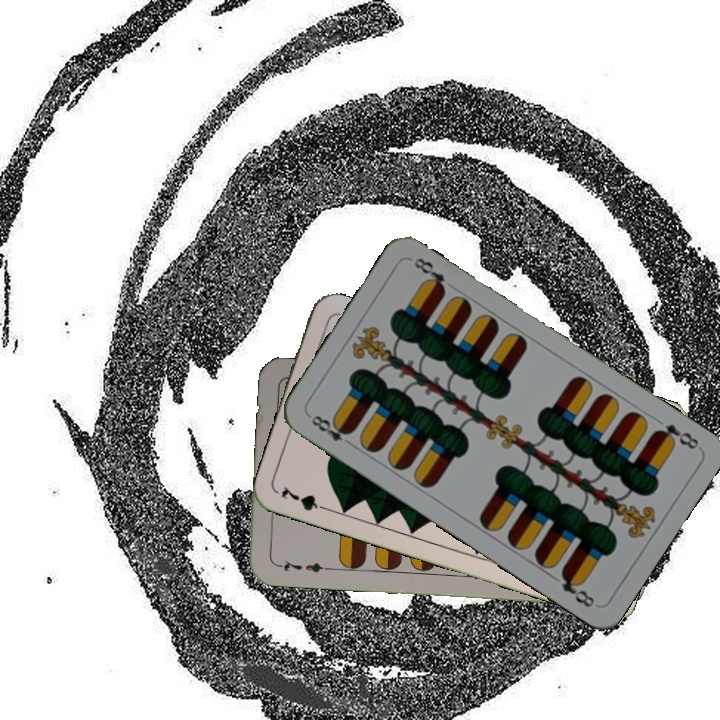E7: (272, 556, 331, 575)
E8: (307, 411, 357, 450), (650, 420, 702, 452)
G7: (276, 482, 334, 514)
